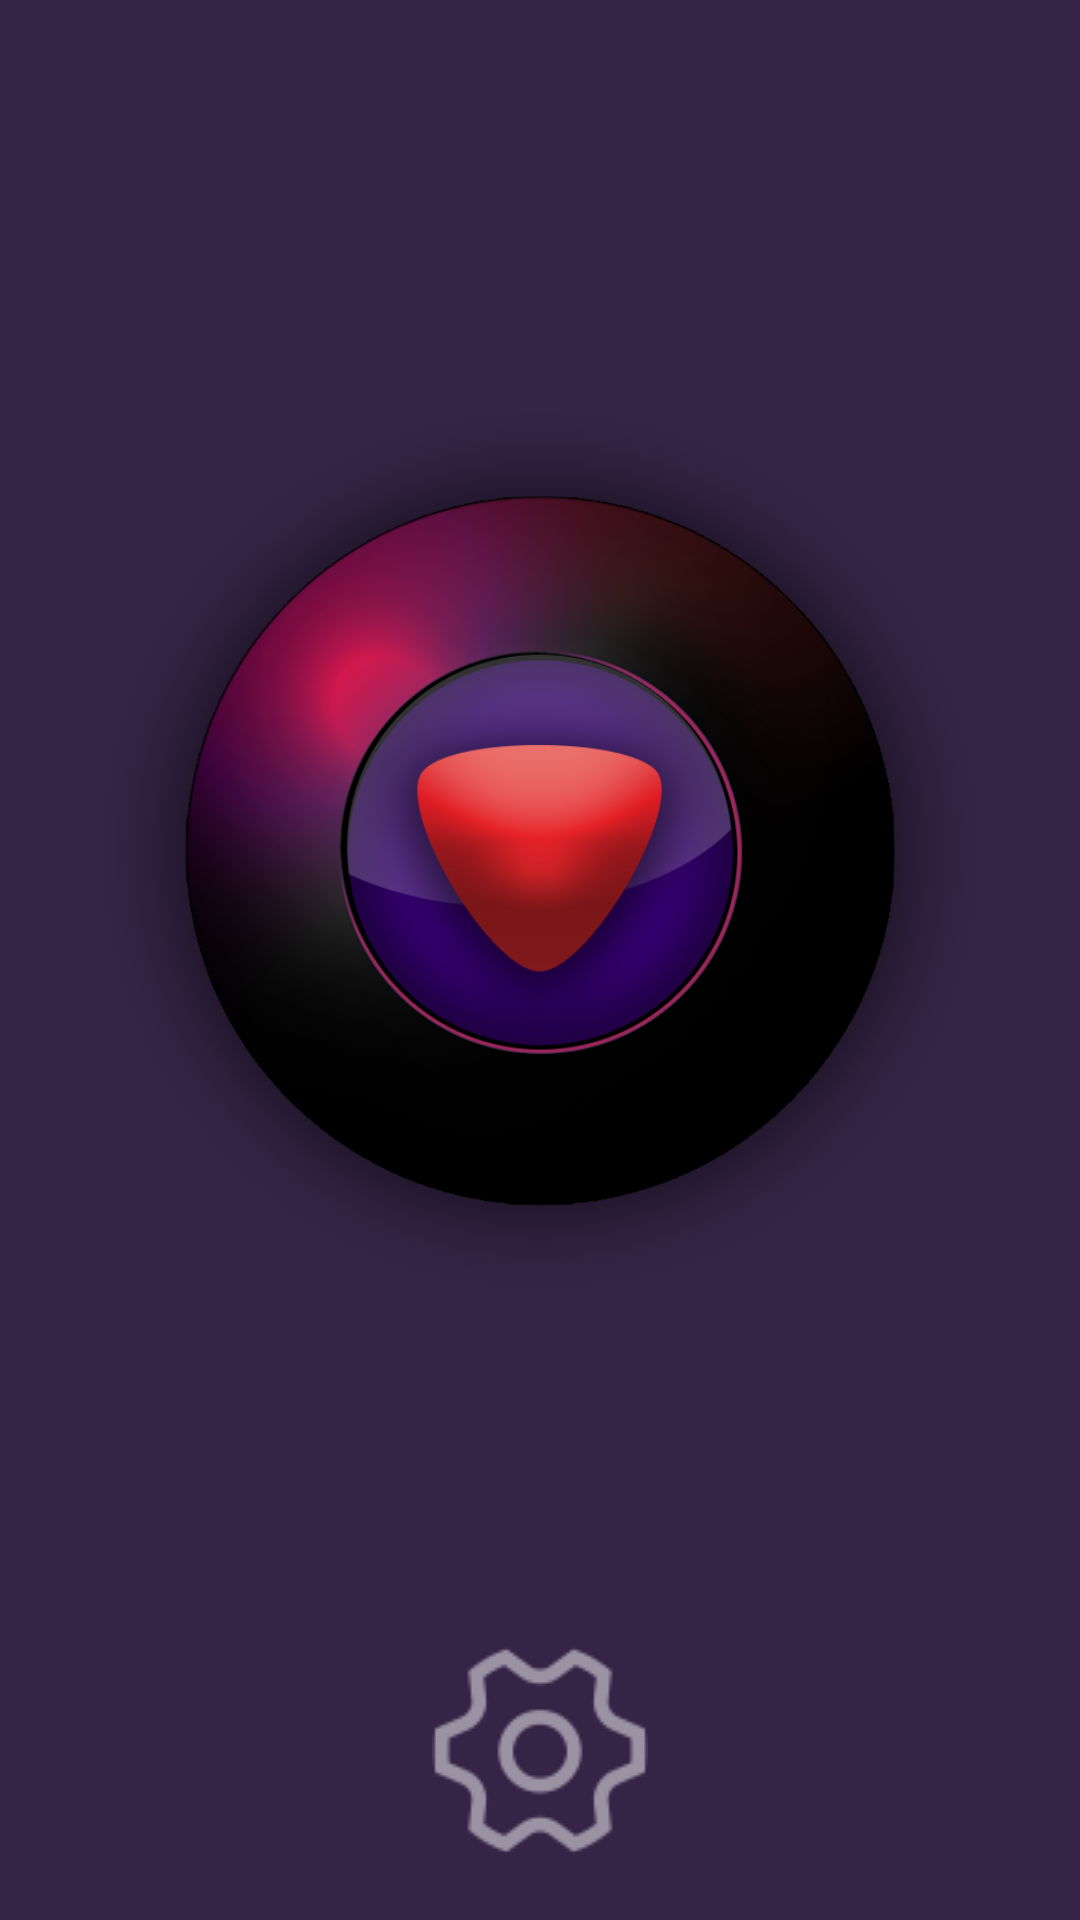

Named icons in this screenshot (1080x1920) and their centers, [x,y]:
settings: [540,1750]
